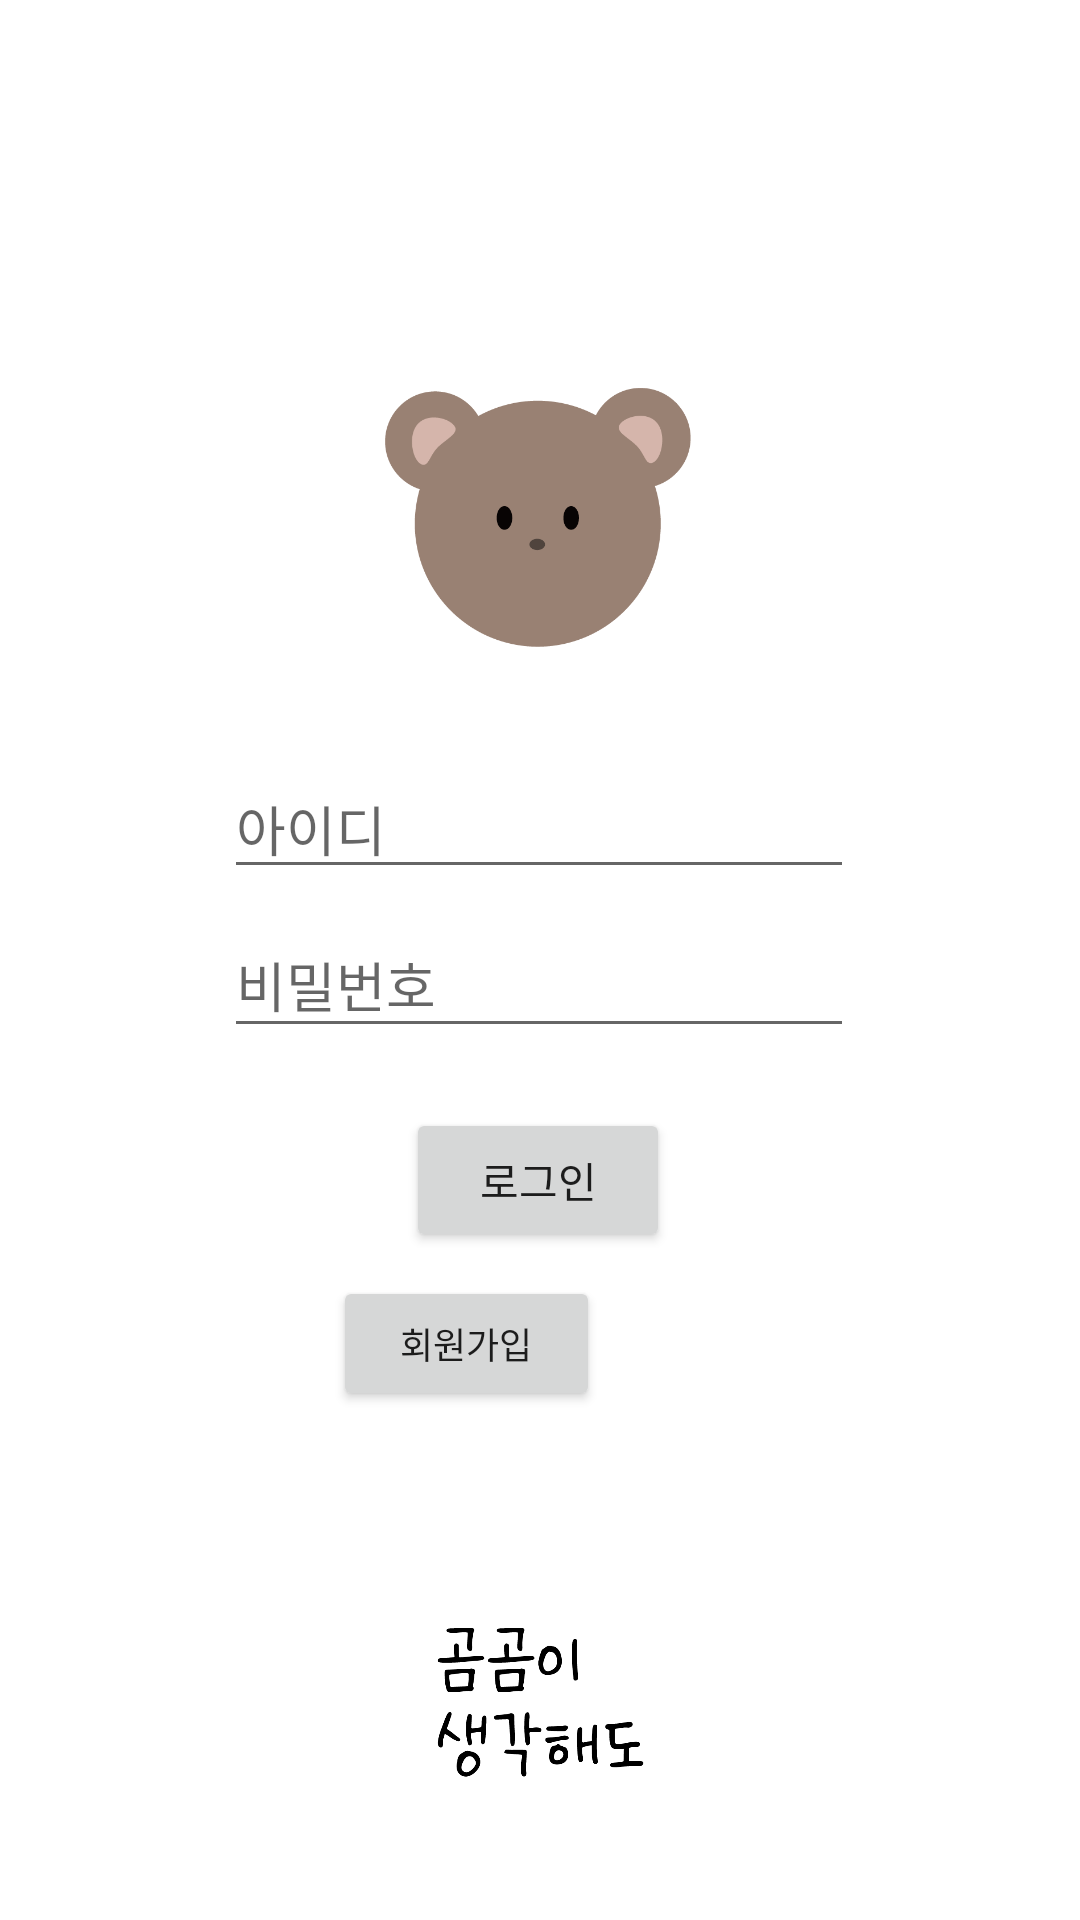

Point at icon controls on the screen. Image size 1080x1920, points as [x,y].
gomgomi: [538,517]
